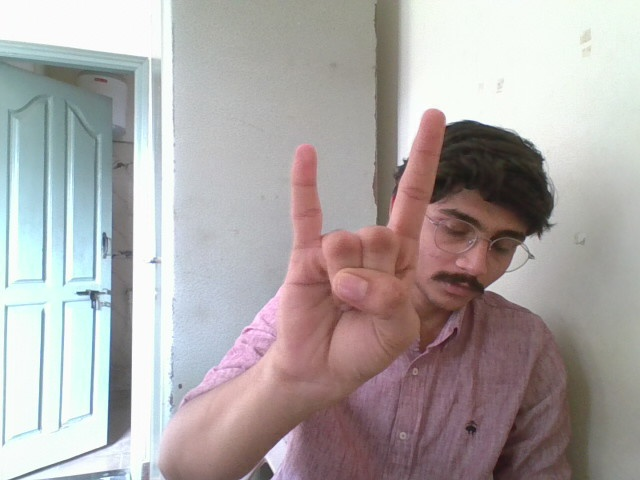iloveyou: (281, 102, 442, 394)
